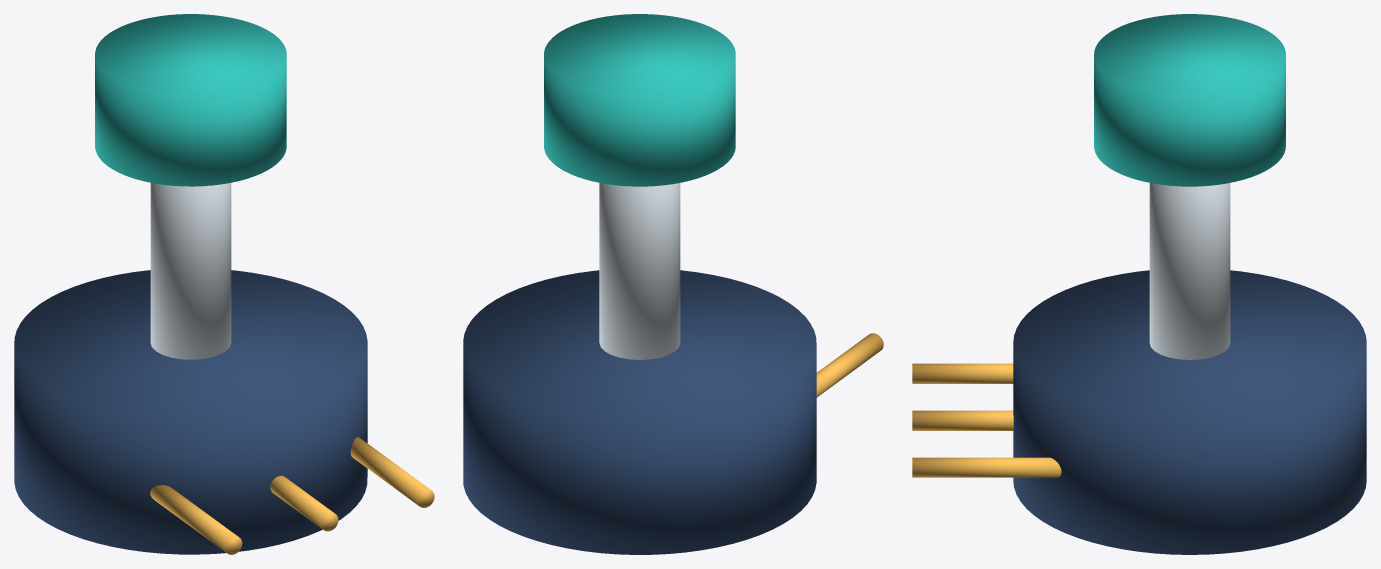
The model's file is potentiometer-quality.glb.
The picture shows the model from 3 angles, left to right: view 1: azimuth 30°, elevation 25°; view 2: azimuth 150°, elevation 25°; view 3: azimuth 270°, elevation 25°; orthographic projection.
Parts seen in each view (by area): view 1: Body; view 2: Body; view 3: Body.
Boxes of the visible parts, x1=… form: Body: x1=14, y1=14, x2=434, y2=554; Body: x1=463, y1=14, x2=883, y2=554; Body: x1=912, y1=14, x2=1366, y2=554.
Size of the model in its own units: 0.7 by 0.93 by 0.9.
